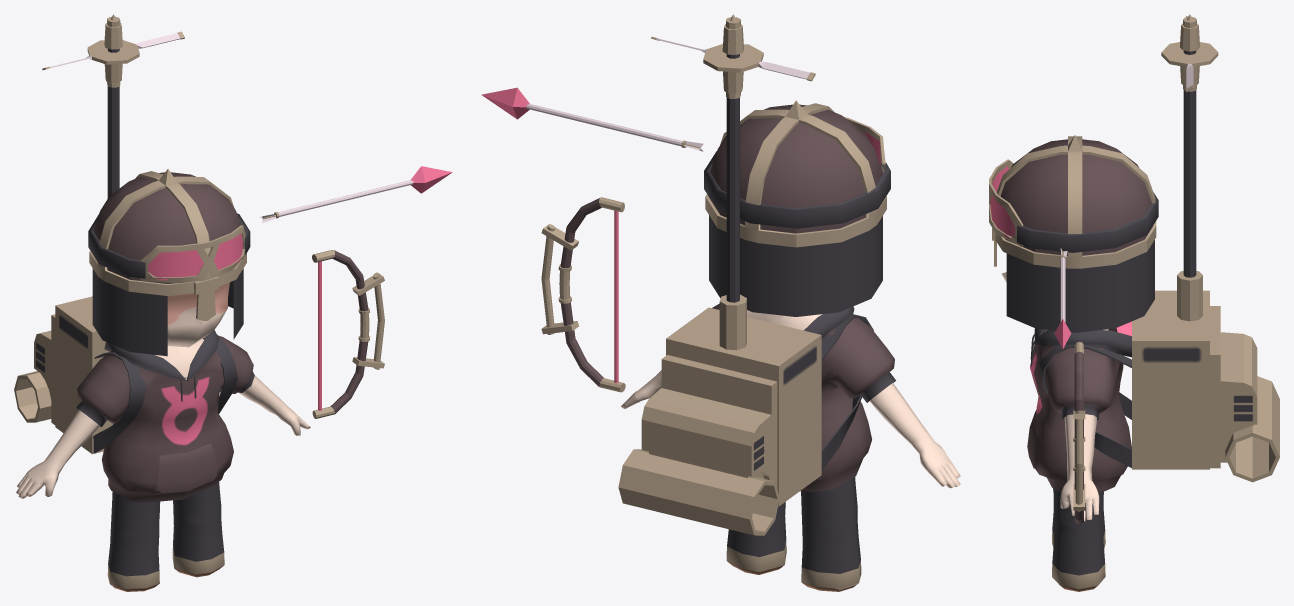
Rendered from Stage2_Idiot2.fbx.
3 views of the same model, side by side, from view 1: azimuth 30°, elevation 25°; view 2: azimuth 150°, elevation 25°; view 3: azimuth 270°, elevation 25° (orthographic). The views are drawn at different scales.
Parts seen in each view (by area): view 1: polySurface88; view 2: polySurface88; view 3: polySurface88.
Part boxes in pixels (left/top/right/bottom): polySurface88: left=14, top=14, right=452, bottom=591; polySurface88: left=481, top=14, right=960, bottom=591; polySurface88: left=989, top=14, right=1279, bottom=591.
Bounding box in the file's own units: 18.1 × 21.34 × 10.21.
